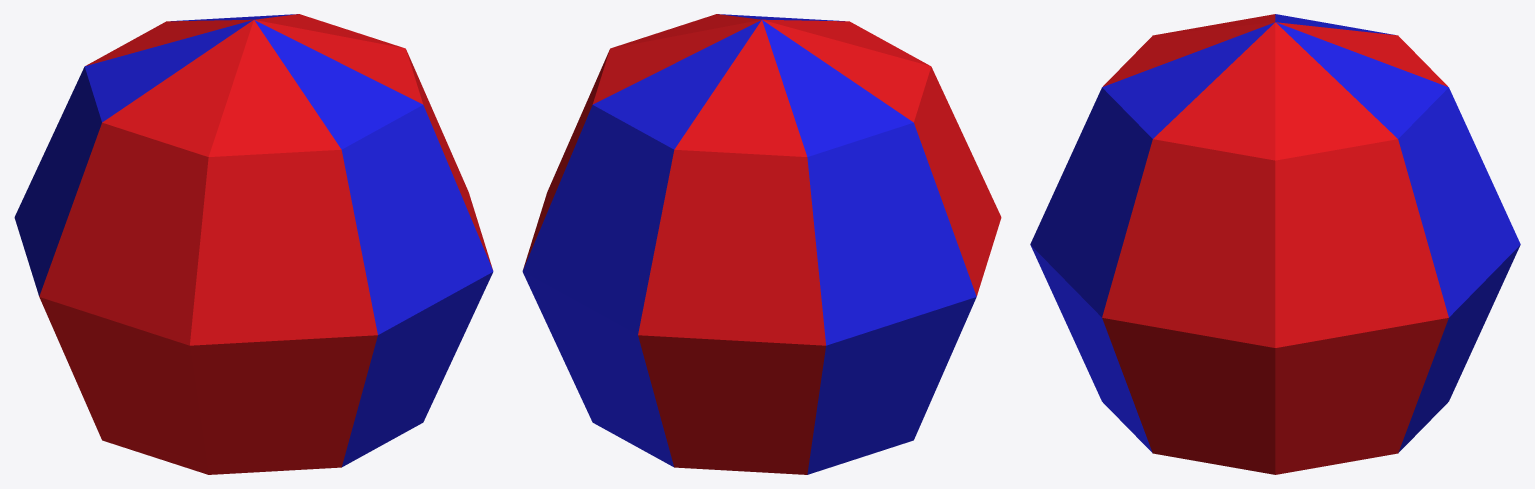
The model's file is Ball.glb.
The picture shows the model from 3 angles, left to right: view 1: azimuth 30°, elevation 25°; view 2: azimuth 150°, elevation 25°; view 3: azimuth 270°, elevation 25°; orthographic projection.
Visible parts, largest first — view 1: Sphere; view 2: Sphere; view 3: Sphere.
Boxes of the visible parts, x1,y1,x2,y2 form: Sphere: [14, 14, 493, 474]; Sphere: [522, 14, 1001, 474]; Sphere: [1030, 14, 1520, 474].
Size of the model in its own units: 0.2 by 0.2 by 0.2.
